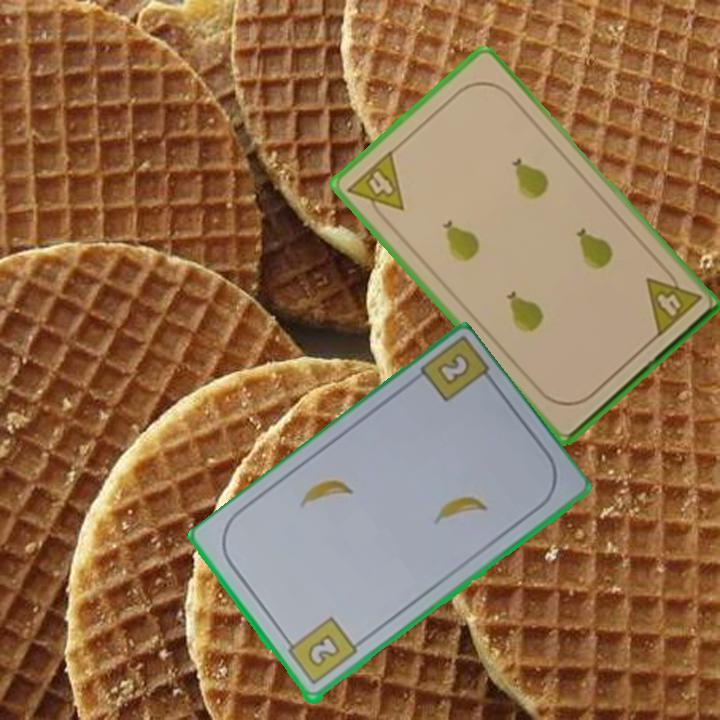2b: (281, 614, 360, 689), (433, 349, 474, 389)
4p: (343, 146, 407, 227), (641, 262, 704, 340)
